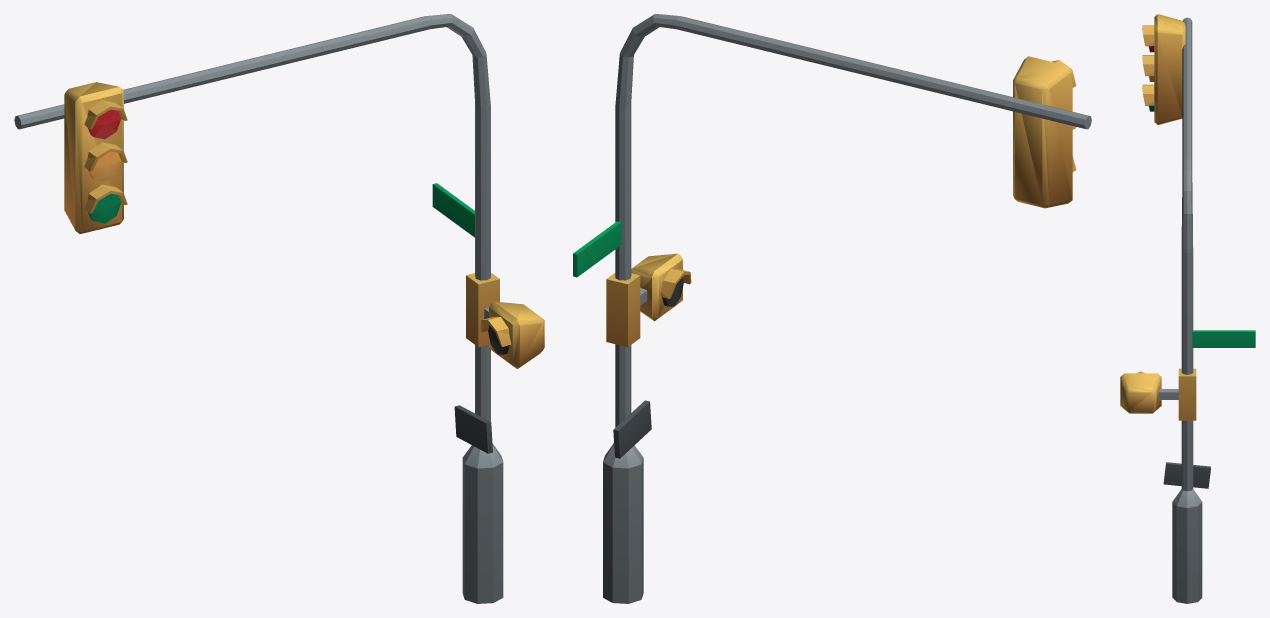
The model's file is kyc_trafficlight_c.fbx.
The picture shows the model from 3 angles, left to right: view 1: azimuth 30°, elevation 25°; view 2: azimuth 150°, elevation 25°; view 3: azimuth 270°, elevation 25°; orthographic projection. The views are drawn at different scales.
Parts seen in each view (by area): view 1: kyc_trafficlight_c_LOD0; view 2: kyc_trafficlight_c_LOD0; view 3: kyc_trafficlight_c_LOD0.
Part boxes in pixels (x1,y1,x2,y2): kyc_trafficlight_c_LOD0: (14,14,544,603); kyc_trafficlight_c_LOD0: (573,14,1091,603); kyc_trafficlight_c_LOD0: (1120,14,1255,603).
Size of what is drawn, in the model's own units: 3.62 by 4.4 by 1.23.
